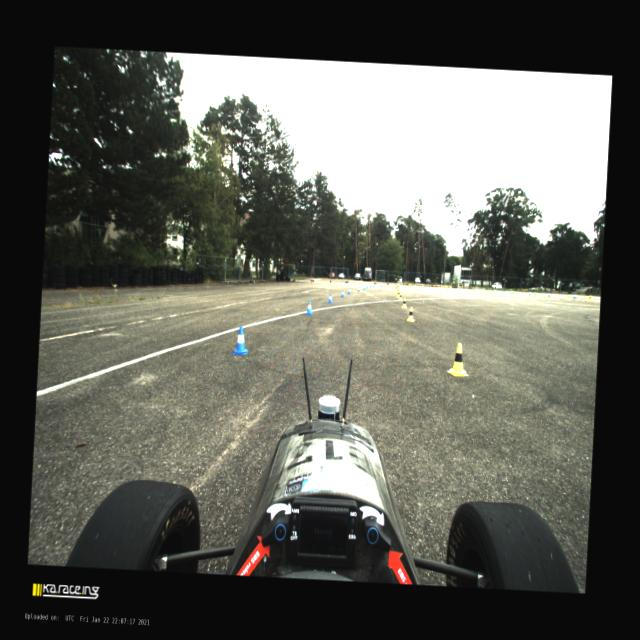blue_cone: (233, 326, 250, 356), (306, 300, 314, 316), (328, 294, 333, 304), (341, 290, 345, 298), (348, 288, 351, 294), (548, 292, 551, 298), (528, 291, 531, 296), (363, 286, 366, 290), (369, 284, 372, 288), (372, 282, 374, 288), (358, 287, 360, 292), (574, 294, 576, 299), (381, 283, 383, 287), (366, 285, 368, 289), (474, 288, 476, 292), (494, 289, 496, 293), (510, 290, 512, 294), (414, 285, 416, 288), (429, 286, 432, 288), (450, 287, 452, 290)
yellow_cone: (446, 343, 471, 377), (406, 307, 416, 322), (402, 298, 407, 308), (397, 290, 400, 298), (588, 294, 592, 300), (400, 292, 402, 300), (489, 289, 492, 294), (396, 289, 398, 294), (396, 288, 398, 292), (398, 284, 400, 288), (408, 284, 410, 288), (472, 288, 474, 292), (512, 291, 514, 295), (534, 292, 536, 296), (447, 287, 449, 290), (424, 286, 426, 288)
